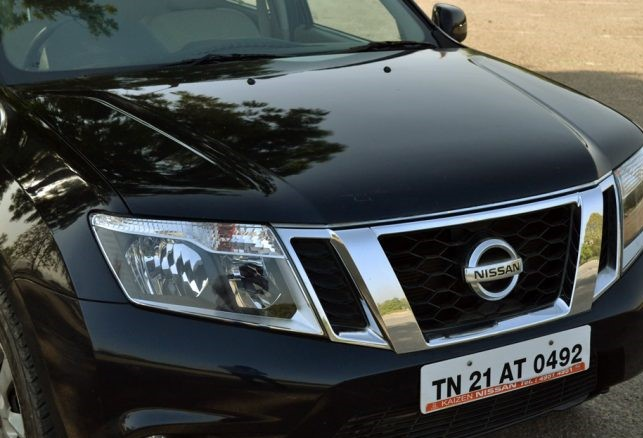TN21AT0492: (420, 324, 590, 414)
